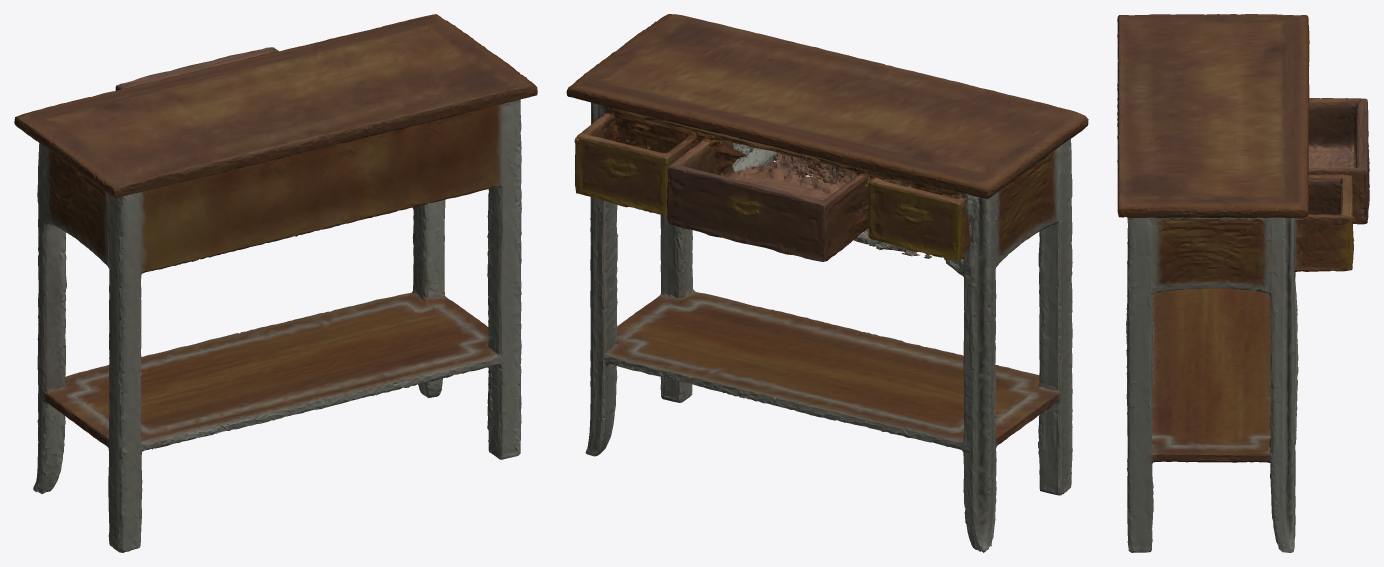
Rendered from table_25493.glb.
3 renders of one model, left to right at view 1: azimuth 30°, elevation 25°; view 2: azimuth 150°, elevation 25°; view 3: azimuth 270°, elevation 25°, orthographic. The views are drawn at different scales.
Visible parts, largest first — view 1: table_25493_start_0, table_25493_start_1; view 2: table_25493_start_0, table_25493_start_1, table_25493_start_2, table_25493_start_3; view 3: table_25493_start_0, table_25493_start_1, table_25493_start_2.
Part boxes in pixels (x1,y1,x2,y2): table_25493_start_0: (14, 14, 537, 552); table_25493_start_1: (115, 47, 278, 90); table_25493_start_0: (566, 14, 1088, 552); table_25493_start_1: (667, 140, 908, 261); table_25493_start_2: (575, 114, 691, 215); table_25493_start_3: (868, 178, 970, 260); table_25493_start_0: (1117, 14, 1355, 552); table_25493_start_1: (1308, 98, 1369, 224); table_25493_start_2: (1294, 174, 1354, 271).
Size of the model in its own units: 1.29 by 1.09 by 0.7026.
